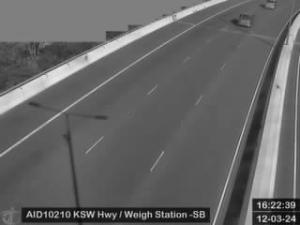vehicle: (239, 12, 255, 28), (265, 1, 277, 10)
